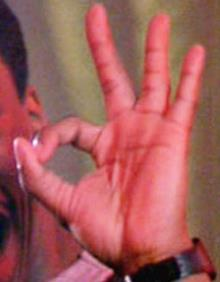left: (15, 3, 207, 264)
